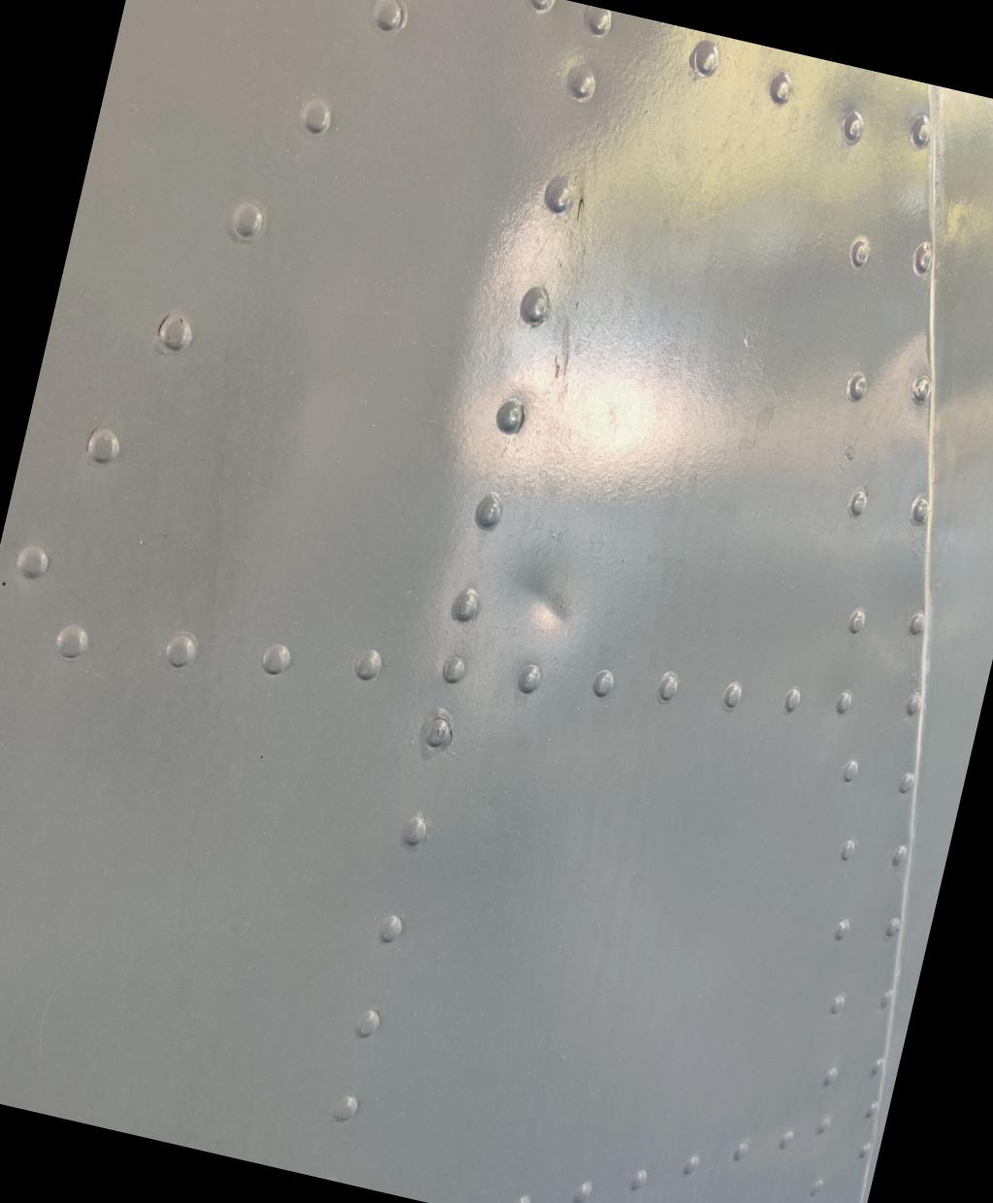dent: (461, 522, 625, 713)
